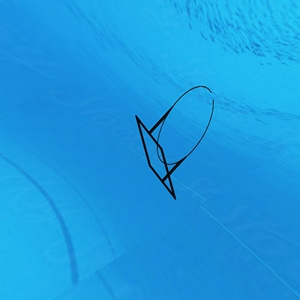circle: (134, 83, 224, 202)
